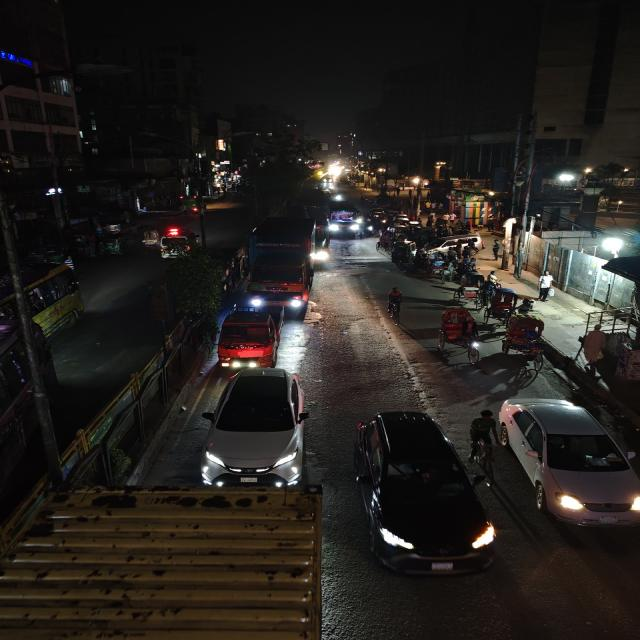bus: (0, 260, 87, 354), (324, 200, 362, 238)
car: (346, 406, 498, 580), (492, 396, 640, 532), (200, 365, 316, 487)
cng: (215, 307, 281, 368), (156, 231, 202, 261), (97, 227, 129, 258)
pedestrian: (382, 286, 408, 320), (537, 270, 556, 304), (509, 250, 529, 279), (491, 240, 502, 262)
rickshaw: (429, 305, 490, 365), (498, 314, 550, 356), (455, 272, 486, 308), (138, 226, 161, 250)
truck: (241, 214, 325, 314), (215, 307, 282, 368)
